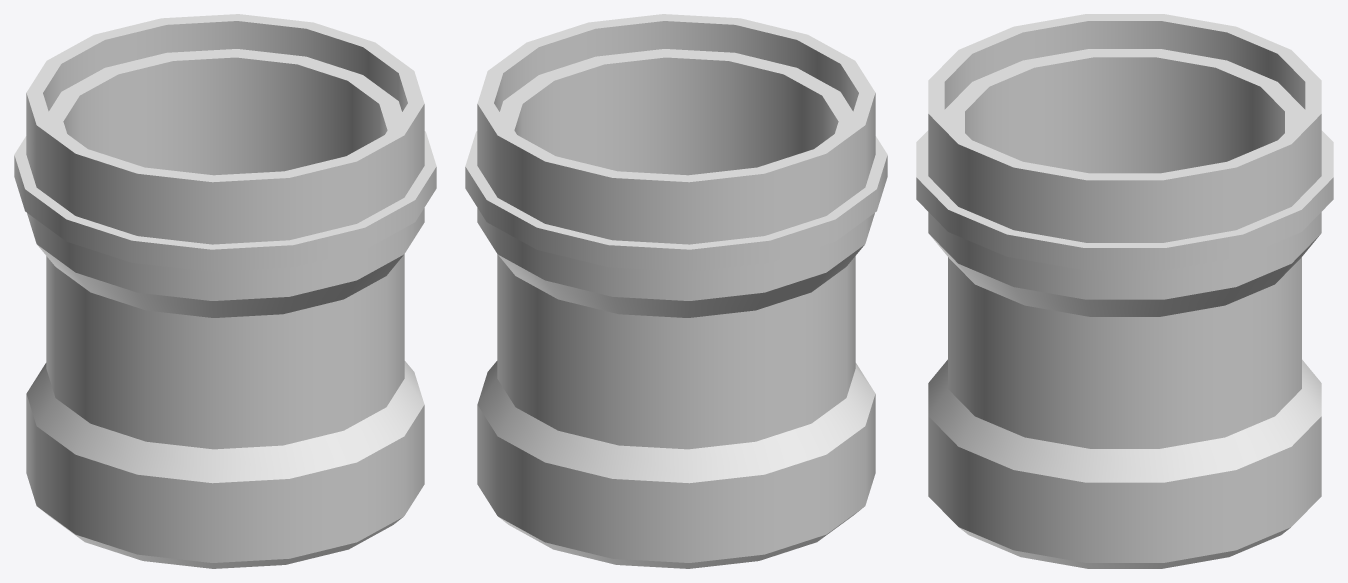
The model's file is Cont_Barrel.fbx.
3 renders of one model, left to right at view 1: azimuth 30°, elevation 25°; view 2: azimuth 150°, elevation 25°; view 3: azimuth 270°, elevation 25°, orthographic.
Parts seen in each view (by area): view 1: Cont_Barrel; view 2: Cont_Barrel; view 3: Cont_Barrel.
Part boxes in pixels (bbox=[...]): Cont_Barrel: bbox=[14, 14, 436, 568]; Cont_Barrel: bbox=[465, 14, 887, 568]; Cont_Barrel: bbox=[916, 14, 1333, 568].
Bounding box in the file's own units: 1.14 × 1.19 × 1.14.
